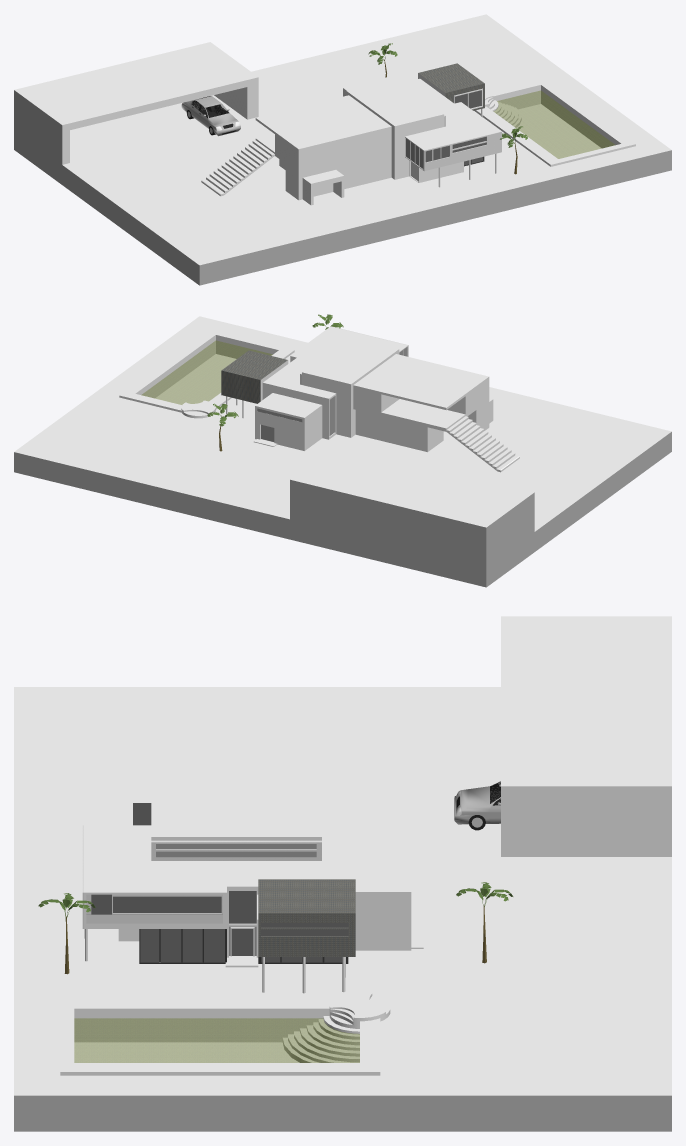
File: optick-house.dae
The picture shows the model from 3 angles, top to bottom: view 1: azimuth 30°, elevation 25°; view 2: azimuth 150°, elevation 25°; view 3: azimuth 270°, elevation 25°; orthographic projection. The views are drawn at different scales.
Parts seen in each view (by area): view 1: Model, car_sedan; view 2: Model; view 3: Model, car_sedan.
Part boxes in pixels (x1,y1,x2,y2): Model: (14, 14, 671, 285); car_sedan: (181, 96, 240, 136); Model: (14, 316, 671, 587); Model: (14, 616, 671, 1131); car_sedan: (454, 781, 500, 824).
Size of the model in its own units: 206 by 140 by 30.71.
